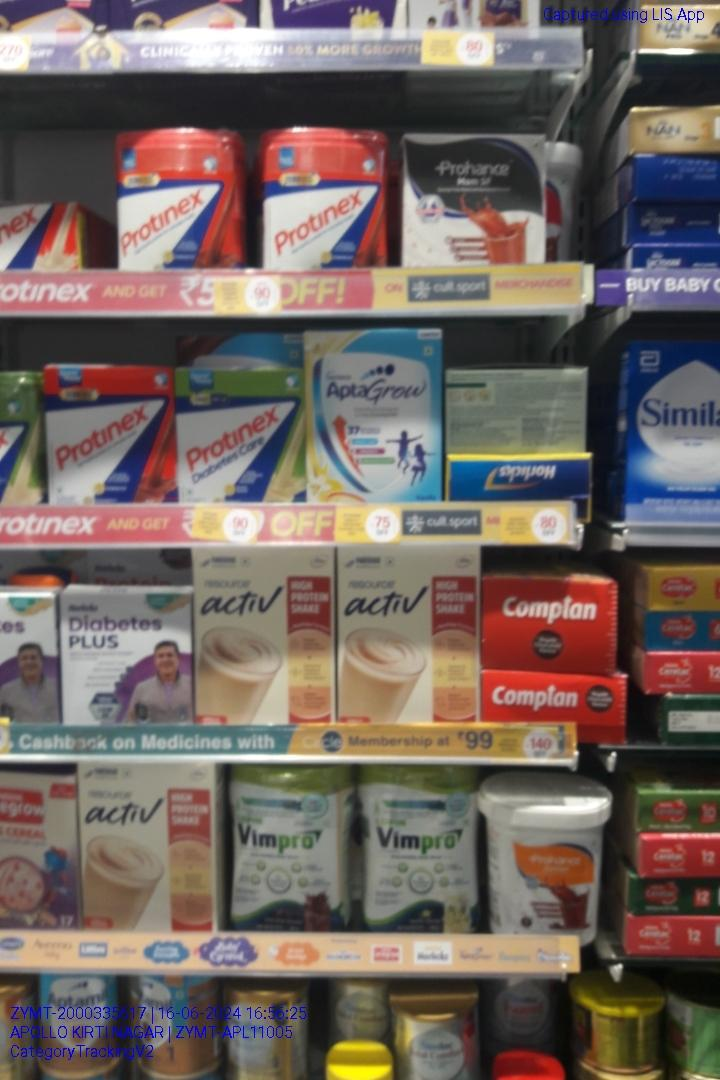PROTINEX_CHOCOLATE_400_G_JAR: (256, 125, 385, 266), (117, 126, 242, 265)
